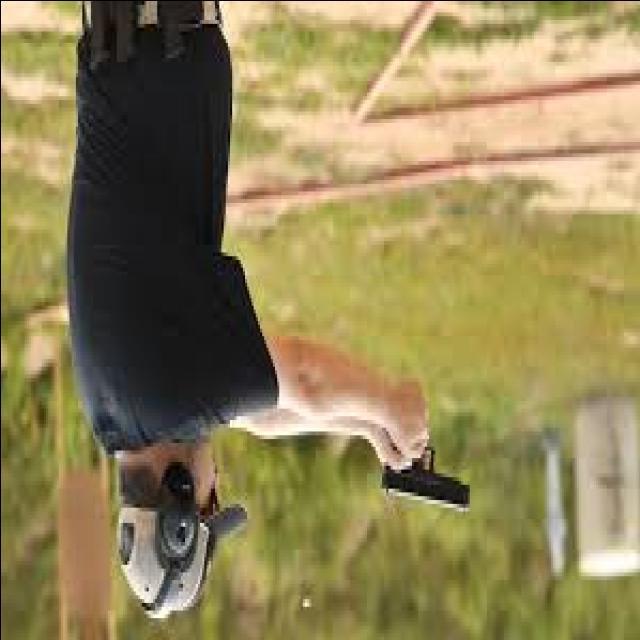weapons: (367, 370, 483, 544)
